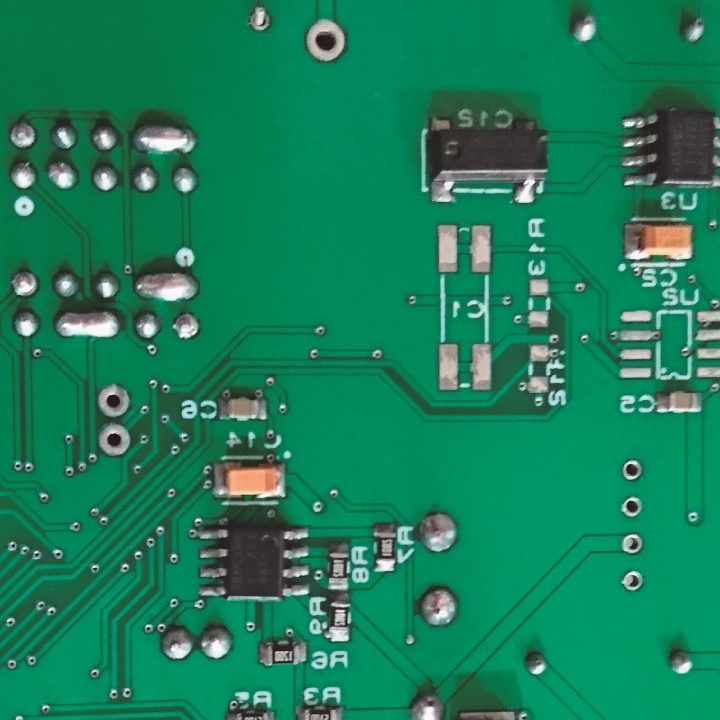F: (304, 18, 347, 65), (98, 419, 133, 459), (95, 382, 132, 419), (5, 117, 38, 152), (7, 268, 42, 300), (170, 312, 204, 341), (618, 529, 647, 558), (246, 5, 273, 35), (621, 566, 646, 595), (622, 492, 647, 520), (621, 457, 645, 483)
P: (130, 119, 196, 158), (134, 268, 200, 307), (53, 309, 124, 340)
